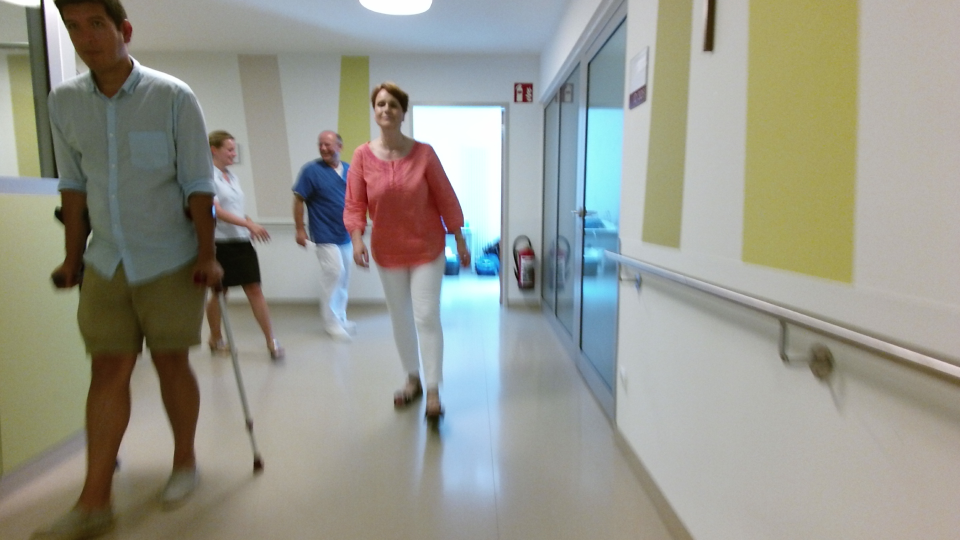crutches: (24, 2, 266, 540)
